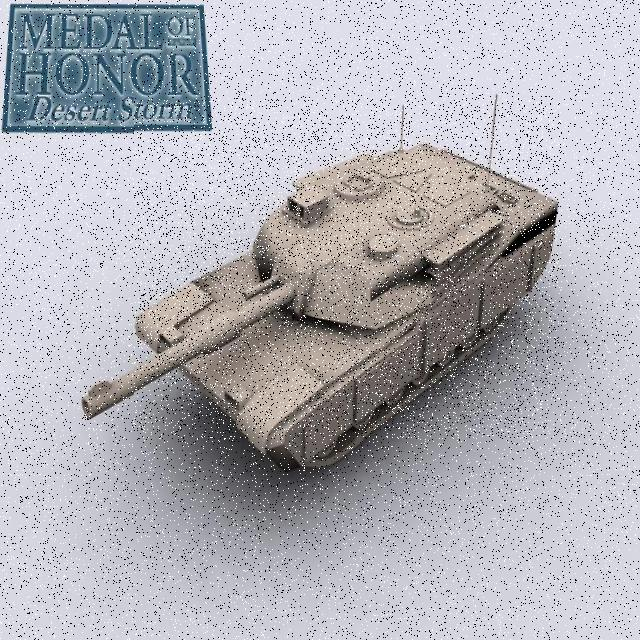MIL_MBT: (134, 101, 562, 439)
